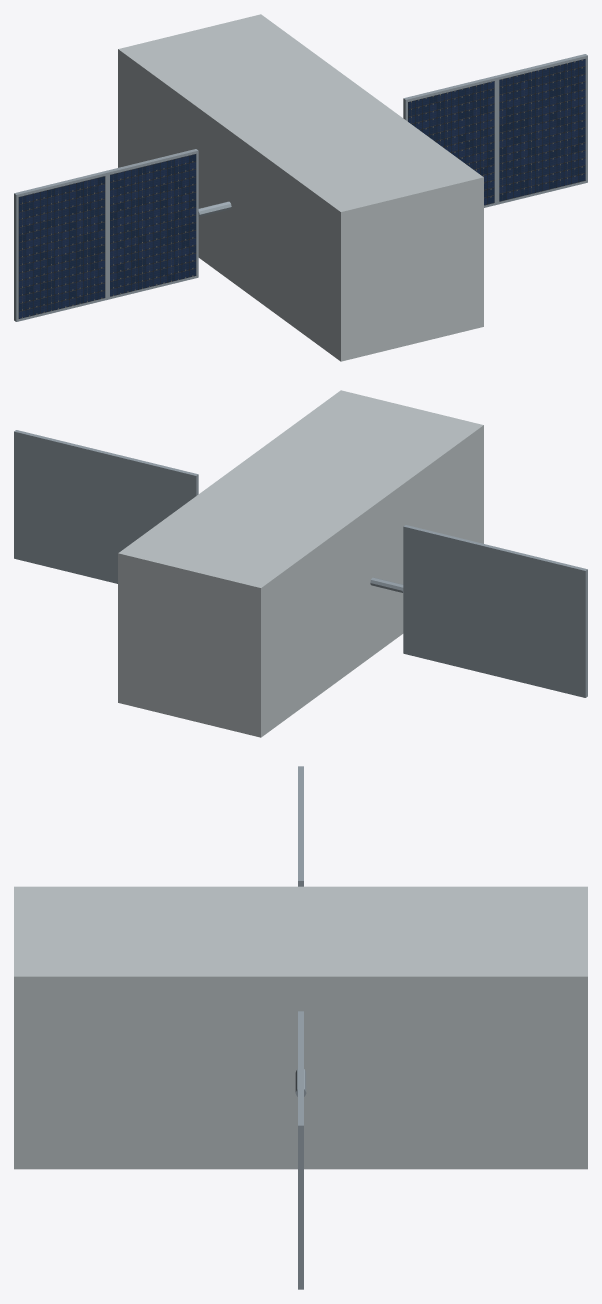
File: ref-ims-2-58694.glb
The picture shows the model from 3 angles, top to bottom: view 1: azimuth 30°, elevation 25°; view 2: azimuth 150°, elevation 25°; view 3: azimuth 270°, elevation 25°; orthographic projection. The views are drawn at different scales.
Parts seen in each view (by area): view 1: Spacecraft body, Photovoltaic laminates (×4), Array frame (×4); view 2: Spacecraft body, Array frame (×4); view 3: Spacecraft body, Array frame.
Part boxes in pixels (<box>): Spacecraft body: <box>118,14,483,361</box>; Photovoltaic laminates (×4): <box>18,59,585,318</box>; Array frame (×4): <box>14,54,587,321</box>; Spacecraft body: <box>118,390,483,737</box>; Array frame (×4): <box>14,430,587,697</box>; Spacecraft body: <box>14,886,587,1169</box>; Array frame: <box>298,1068,303,1289</box>.
Bounding box in the file's own units: 4 × 1 × 2.7.
Materials: 3 (1 with a texture image).
